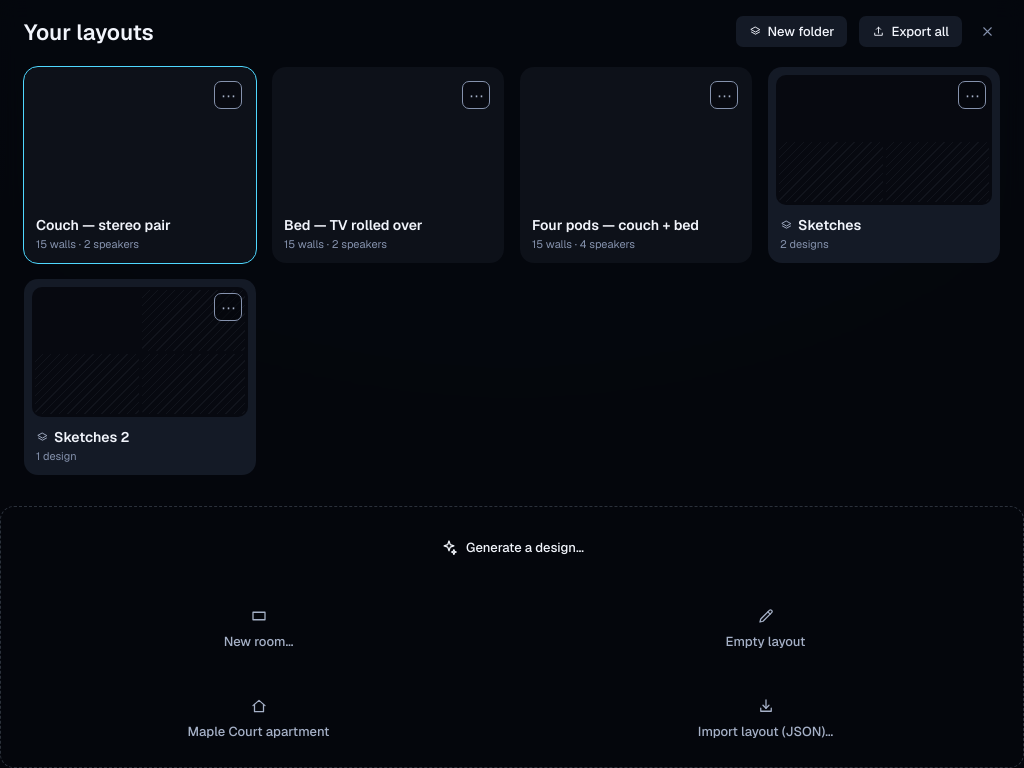
Test: S30 §14e — taking a design OUT of a folder › commits an exit with O, and the emptied folder disappears
The width and height of the screenshot is (1024, 768).
Click the button "Sketches 2 1 design" at (140, 377), box [24,279,256,475]
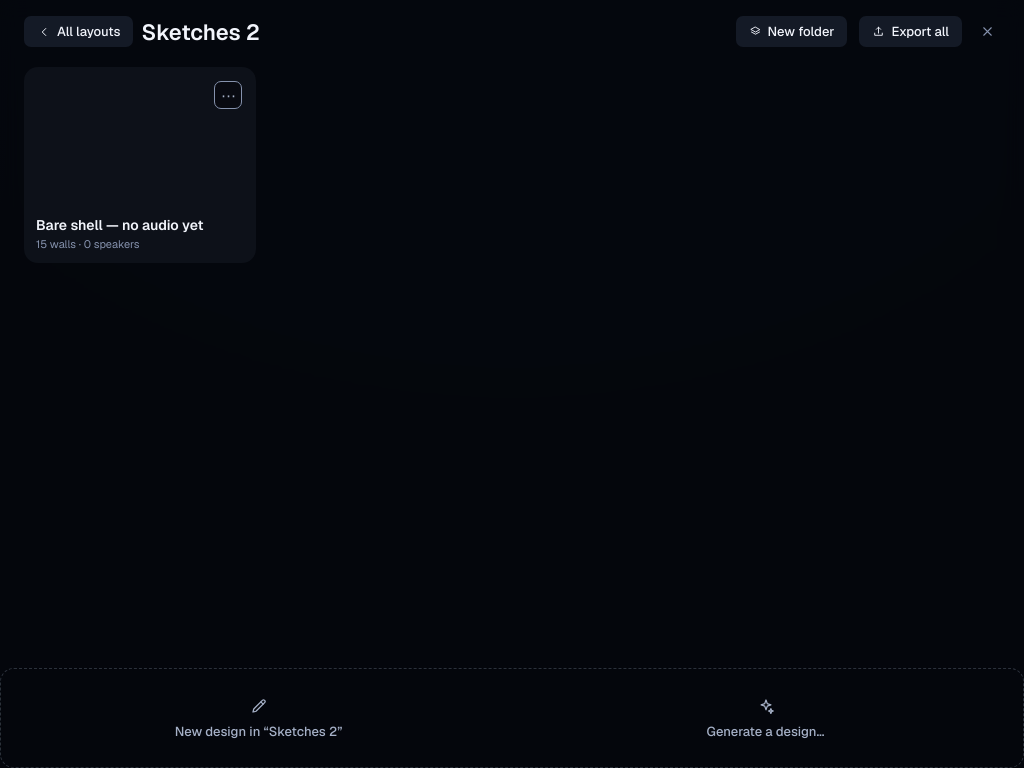
Press m in the button "Bare shell — no audio yet 15 walls · 0 speakers", box [24,67,256,263]
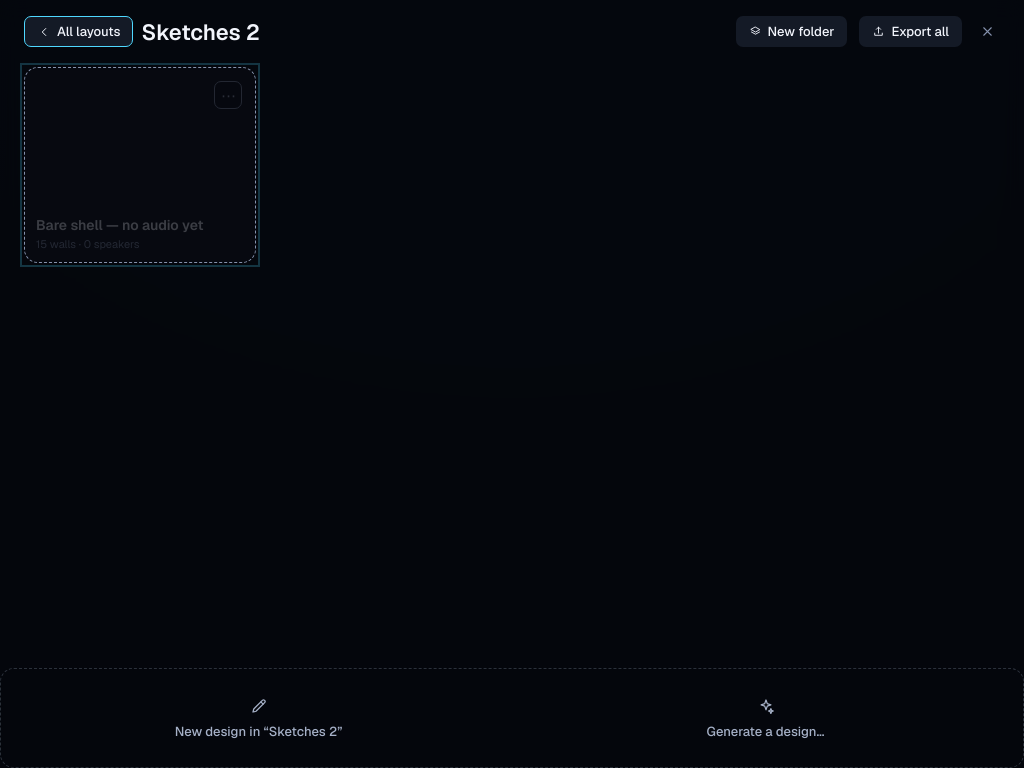
Press o in the button "Bare shell — no audio yet 15 walls · 0 speakers", box [24,67,256,263]
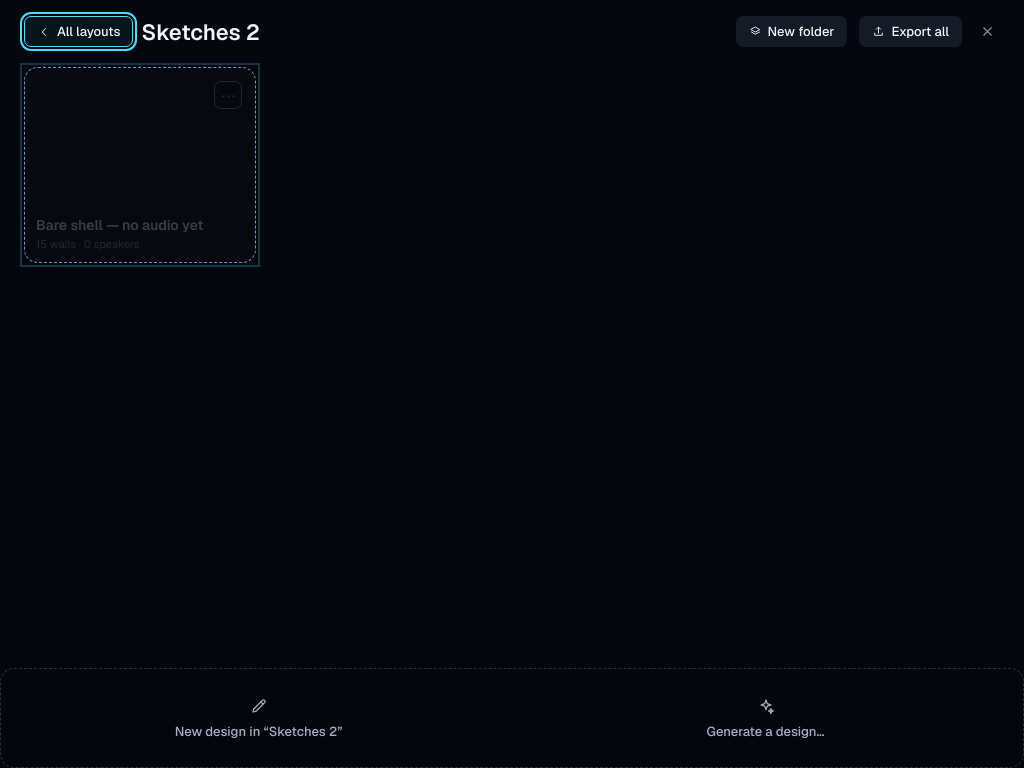
Press Enter in the button "Bare shell — no audio yet 15 walls · 0 speakers", box [24,67,256,263]
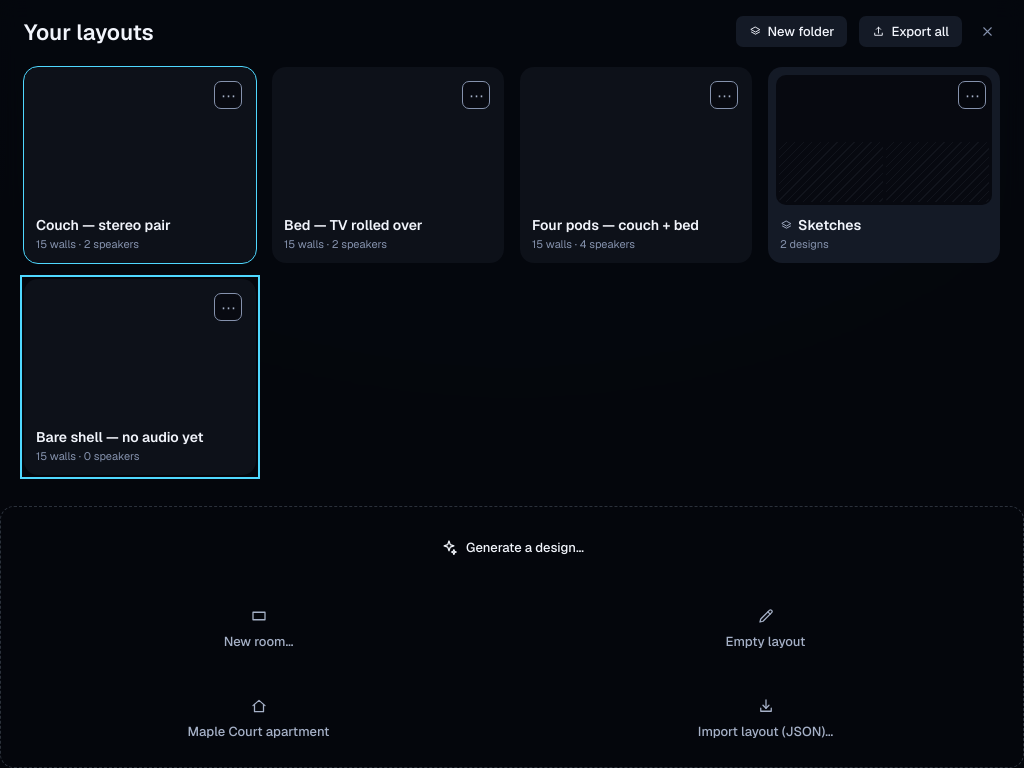
Check: the list item "Bare shell — no audio yet 15 walls · 0 speakers ⋯" is shown, box [24,279,256,475]
Check: the heading reads "Your layouts", box [24,18,154,46]
